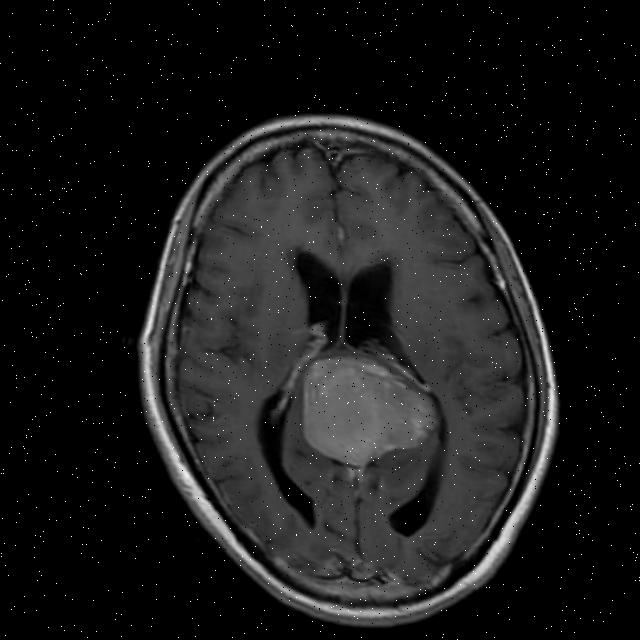Meningioma: (290, 347, 450, 486)
